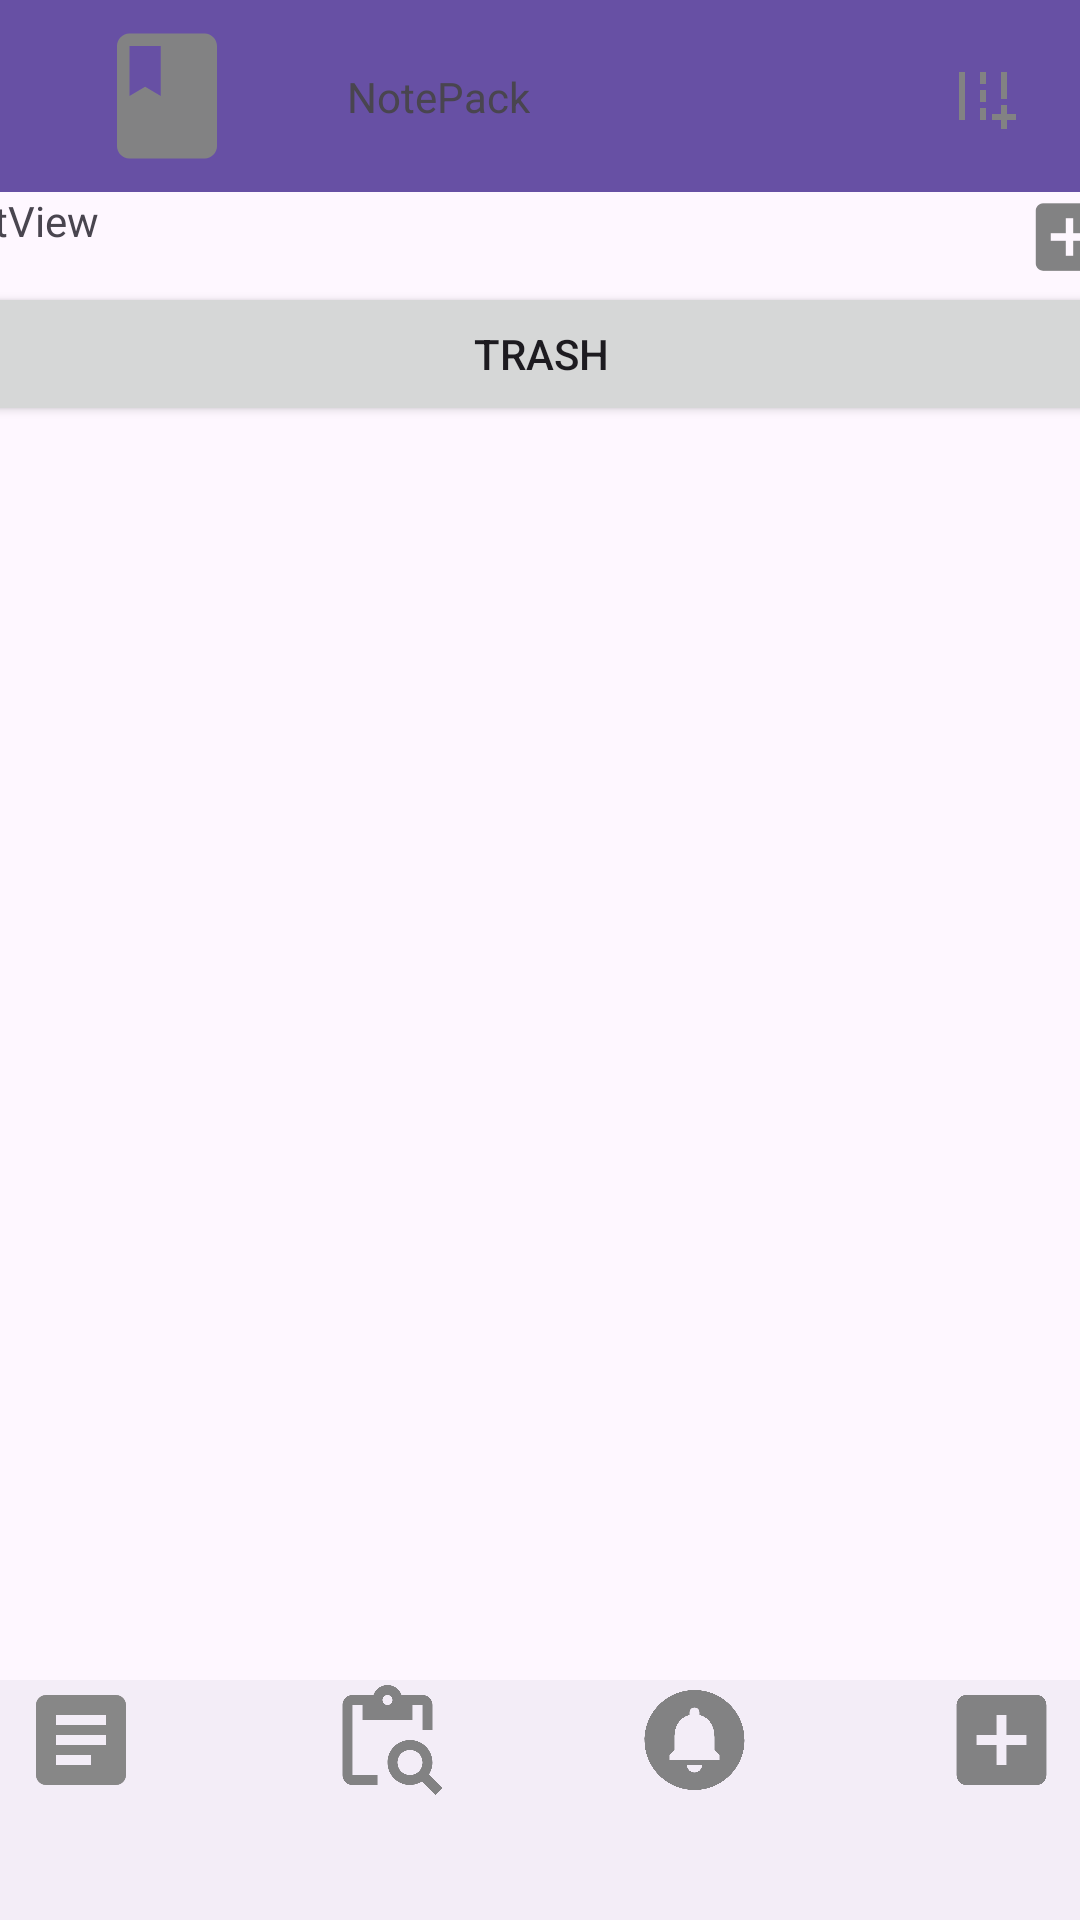

Screen size 1080px×1920px. Icon name, then its box in pixels as (x1, y1, x2, y2):
add road: (959, 72, 1016, 129)
circle notifications: (644, 1690, 745, 1790)
class: (117, 33, 217, 159)
content paste search: (342, 1685, 442, 1795)
